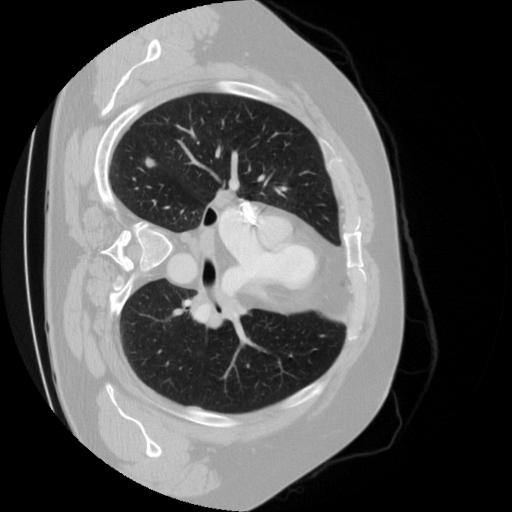nodule: (143, 155, 159, 171)
